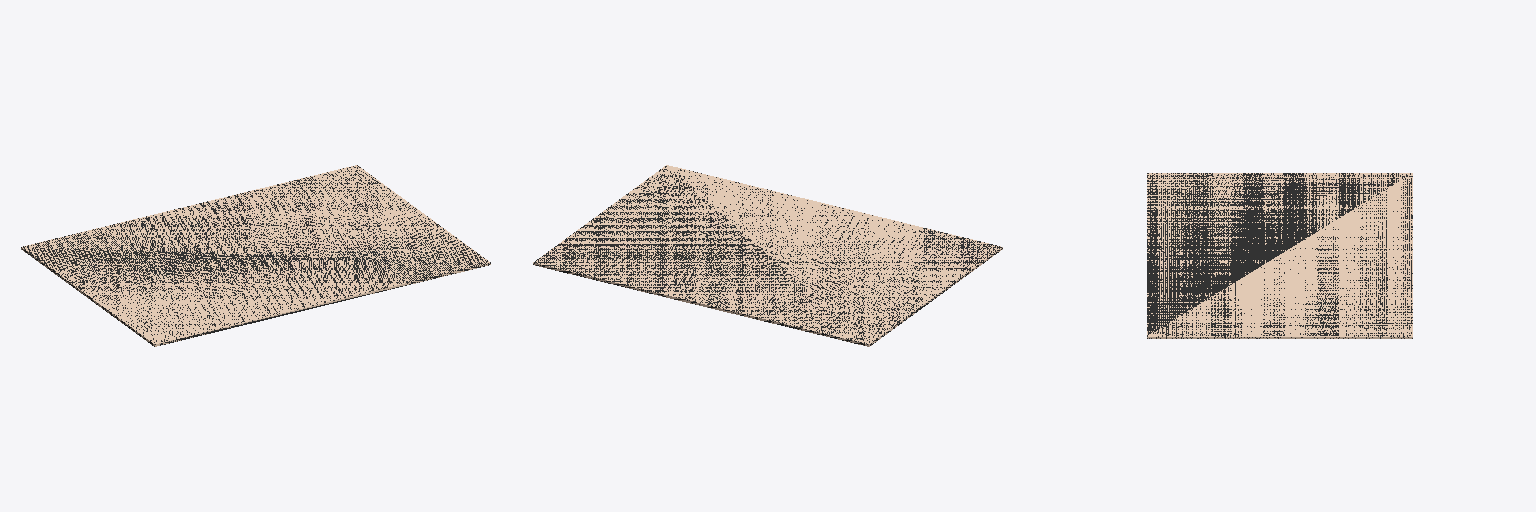
File: original-16.obj
3 renders of one model, left to right at view 1: azimuth 30°, elevation 25°; view 2: azimuth 150°, elevation 25°; view 3: azimuth 270°, elevation 25°, orthographic.
Parts seen in each view (by area): view 1: mesh12/mesh12-geometry/material_0/component_2#mesh12-geometry; view 2: mesh12/mesh12-geometry/material_0/component_2#mesh12-geometry; view 3: mesh12/mesh12-geometry/material_0/component_2#mesh12-geometry.
Part boxes in pixels (x1,y1,x2,y2): mesh12/mesh12-geometry/material_0/component_2#mesh12-geometry: (21, 165, 490, 346); mesh12/mesh12-geometry/material_0/component_2#mesh12-geometry: (533, 165, 1002, 346); mesh12/mesh12-geometry/material_0/component_2#mesh12-geometry: (1147, 173, 1412, 338).
Size of the model in its own units: 0.2999 by 0.0022 by 0.2064.